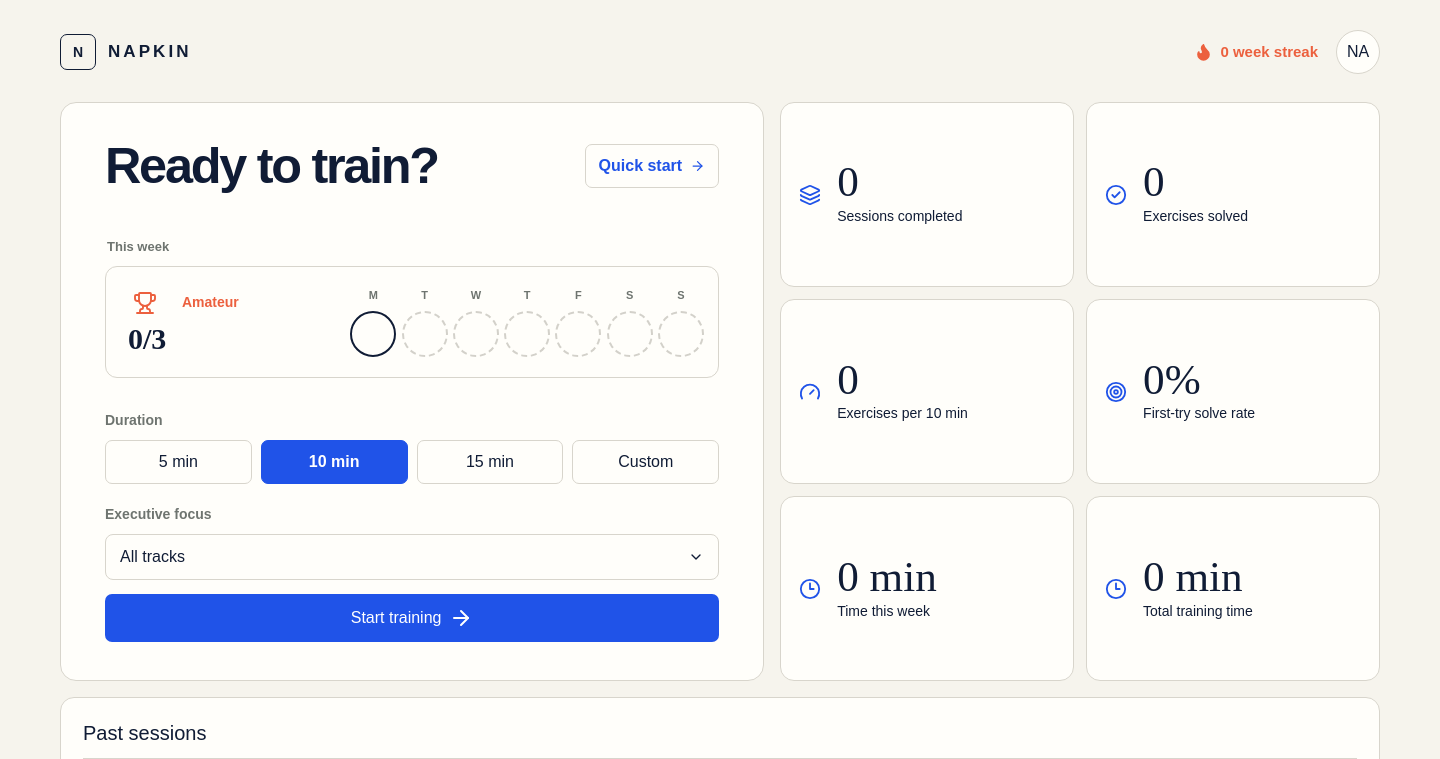
Scenario: Napkin V1 flow › saves multiple tracks when the menu closes and carries them into practice
This screenshot has width=1440, height=759.
Click the button with aria-label "Executive focus:" at (152, 557), box [105,534,719,580]
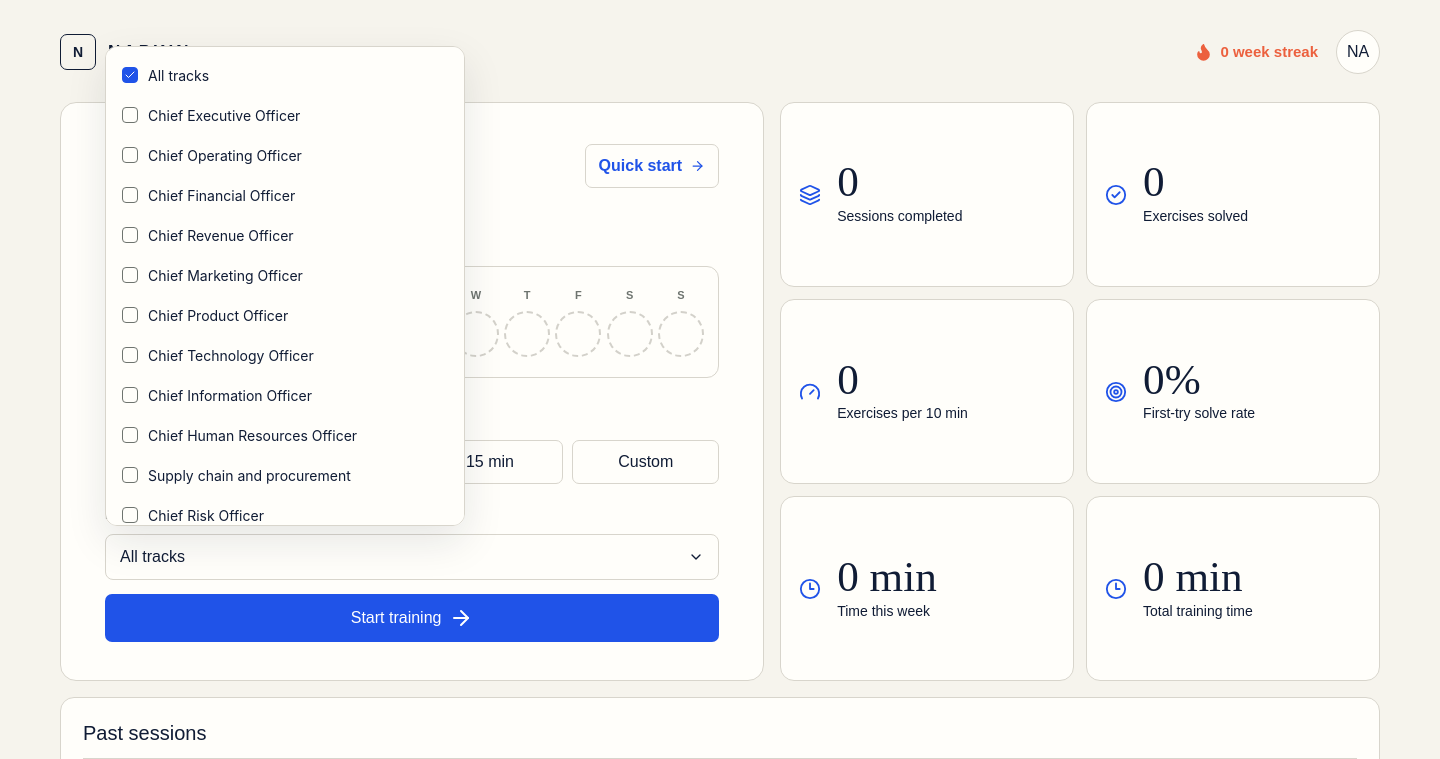
Click the menu item "Chief Technology Officer" at (218, 355), box [122,346,314,364]
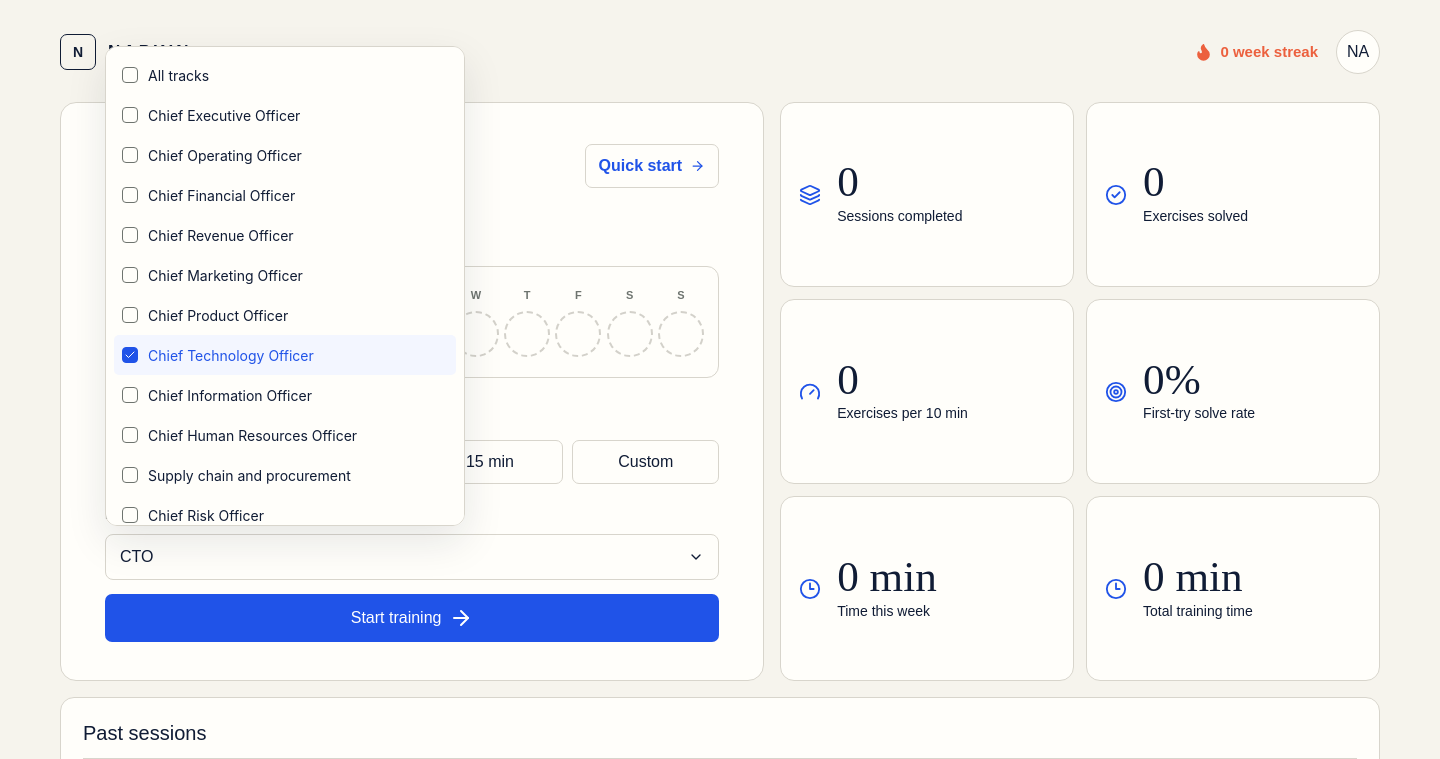
Click the menu item "Chief Marketing Officer" at (212, 275), box [122,266,303,284]
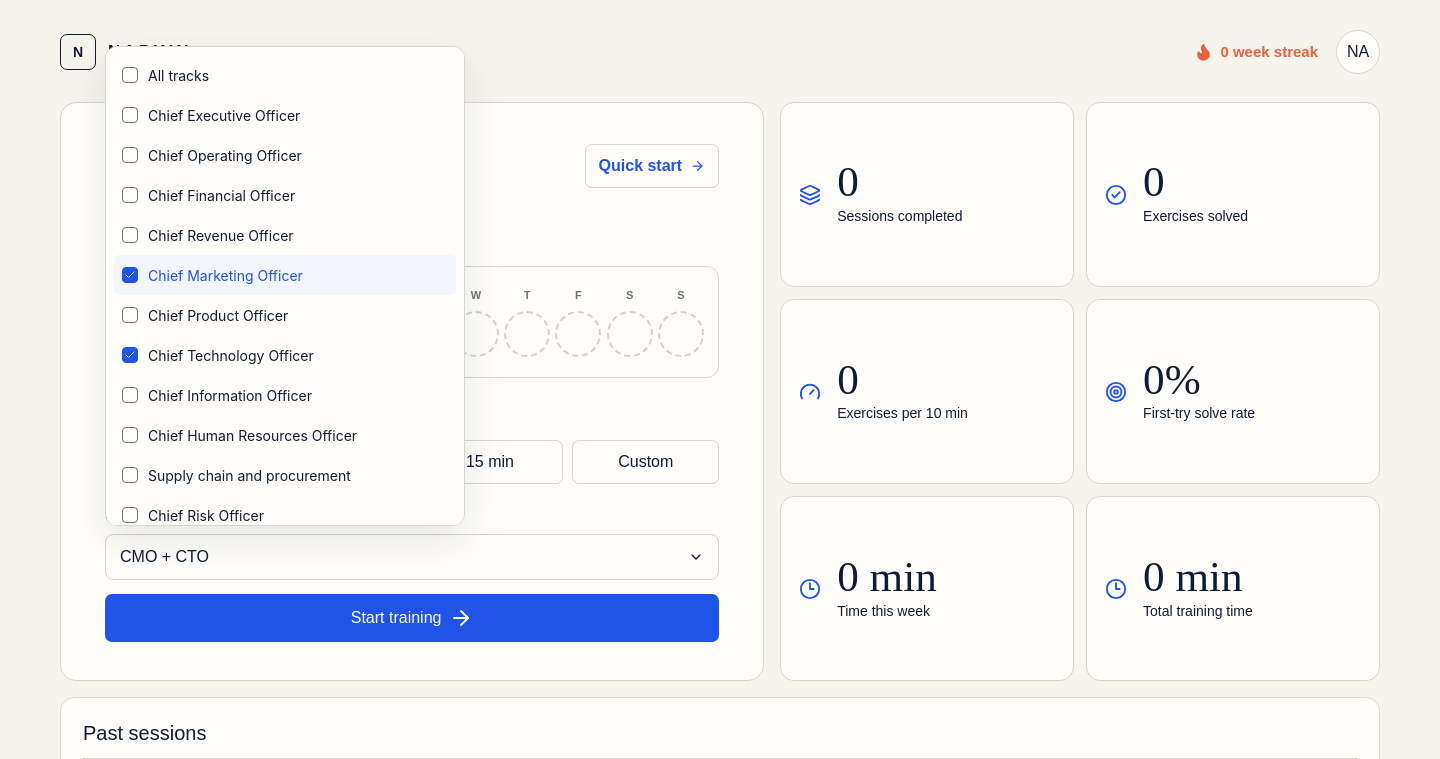
Press Escape
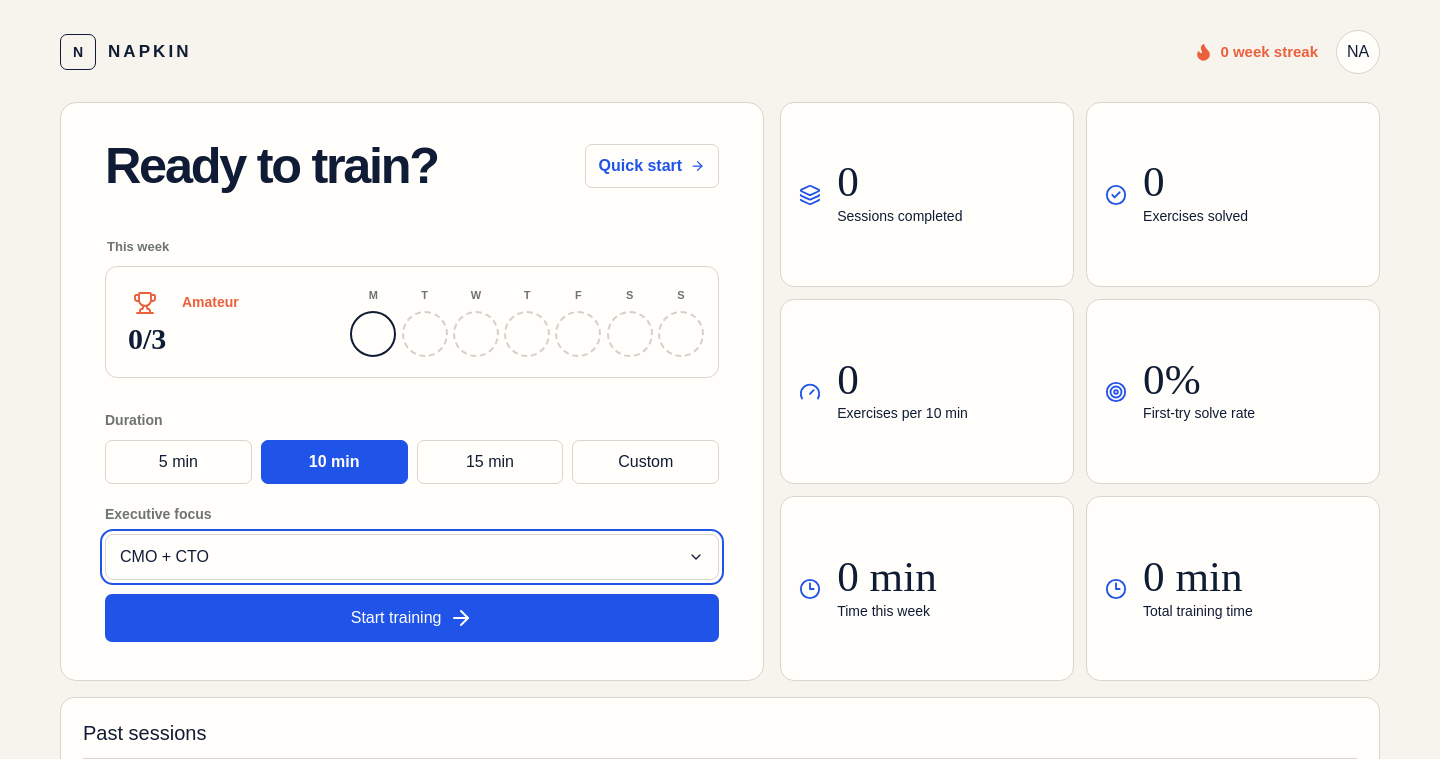
expect the button with aria-label "Executive focus: CMO + CTO" is shown: met, box [105,534,719,580]
Click the button "Start training" at (412, 618), box [105,594,719,642]
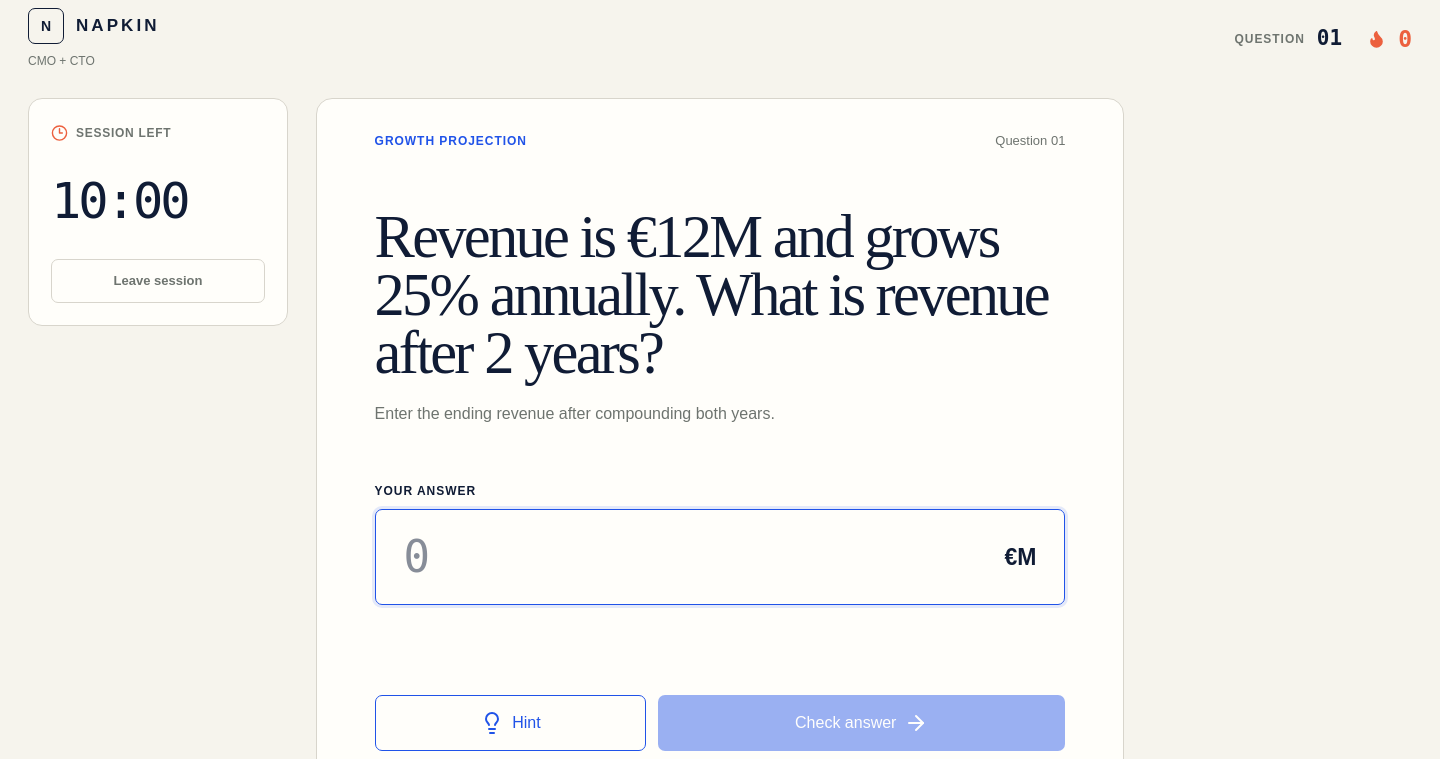
expect the text named "Executive focus: CMO + CTO" is shown: met, box [28,54,95,68]
expect the field labelled "Your answer" is shown: met, box [376,524,976,590]
